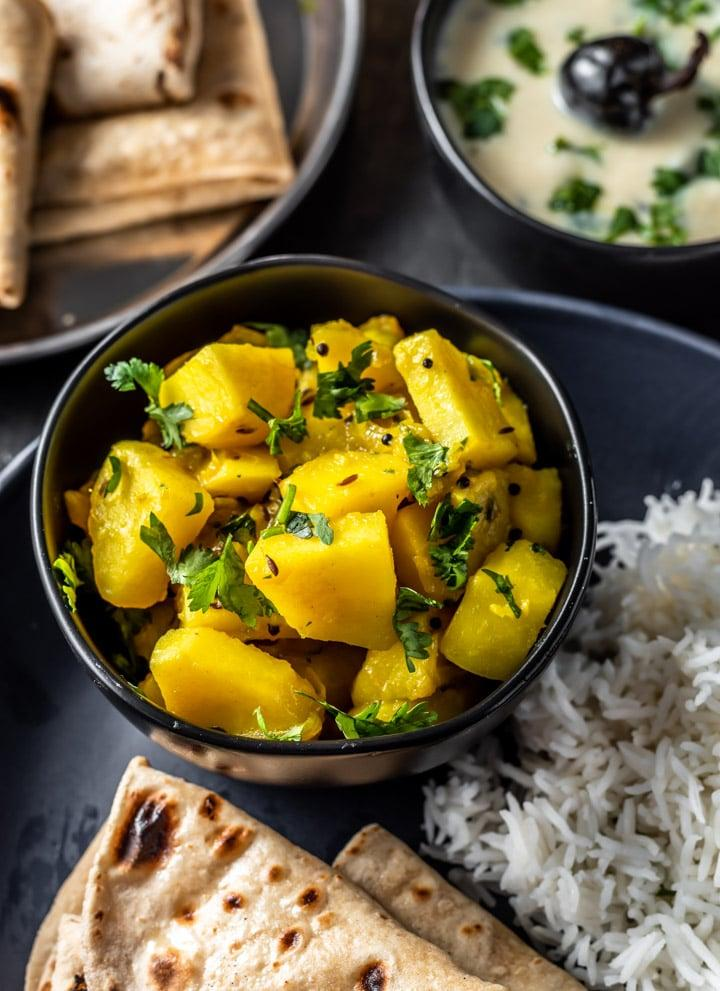aloo sabji: (78, 313, 532, 739)
rice: (541, 603, 720, 964)
roti phulka: (96, 818, 579, 991), (0, 0, 303, 228)
